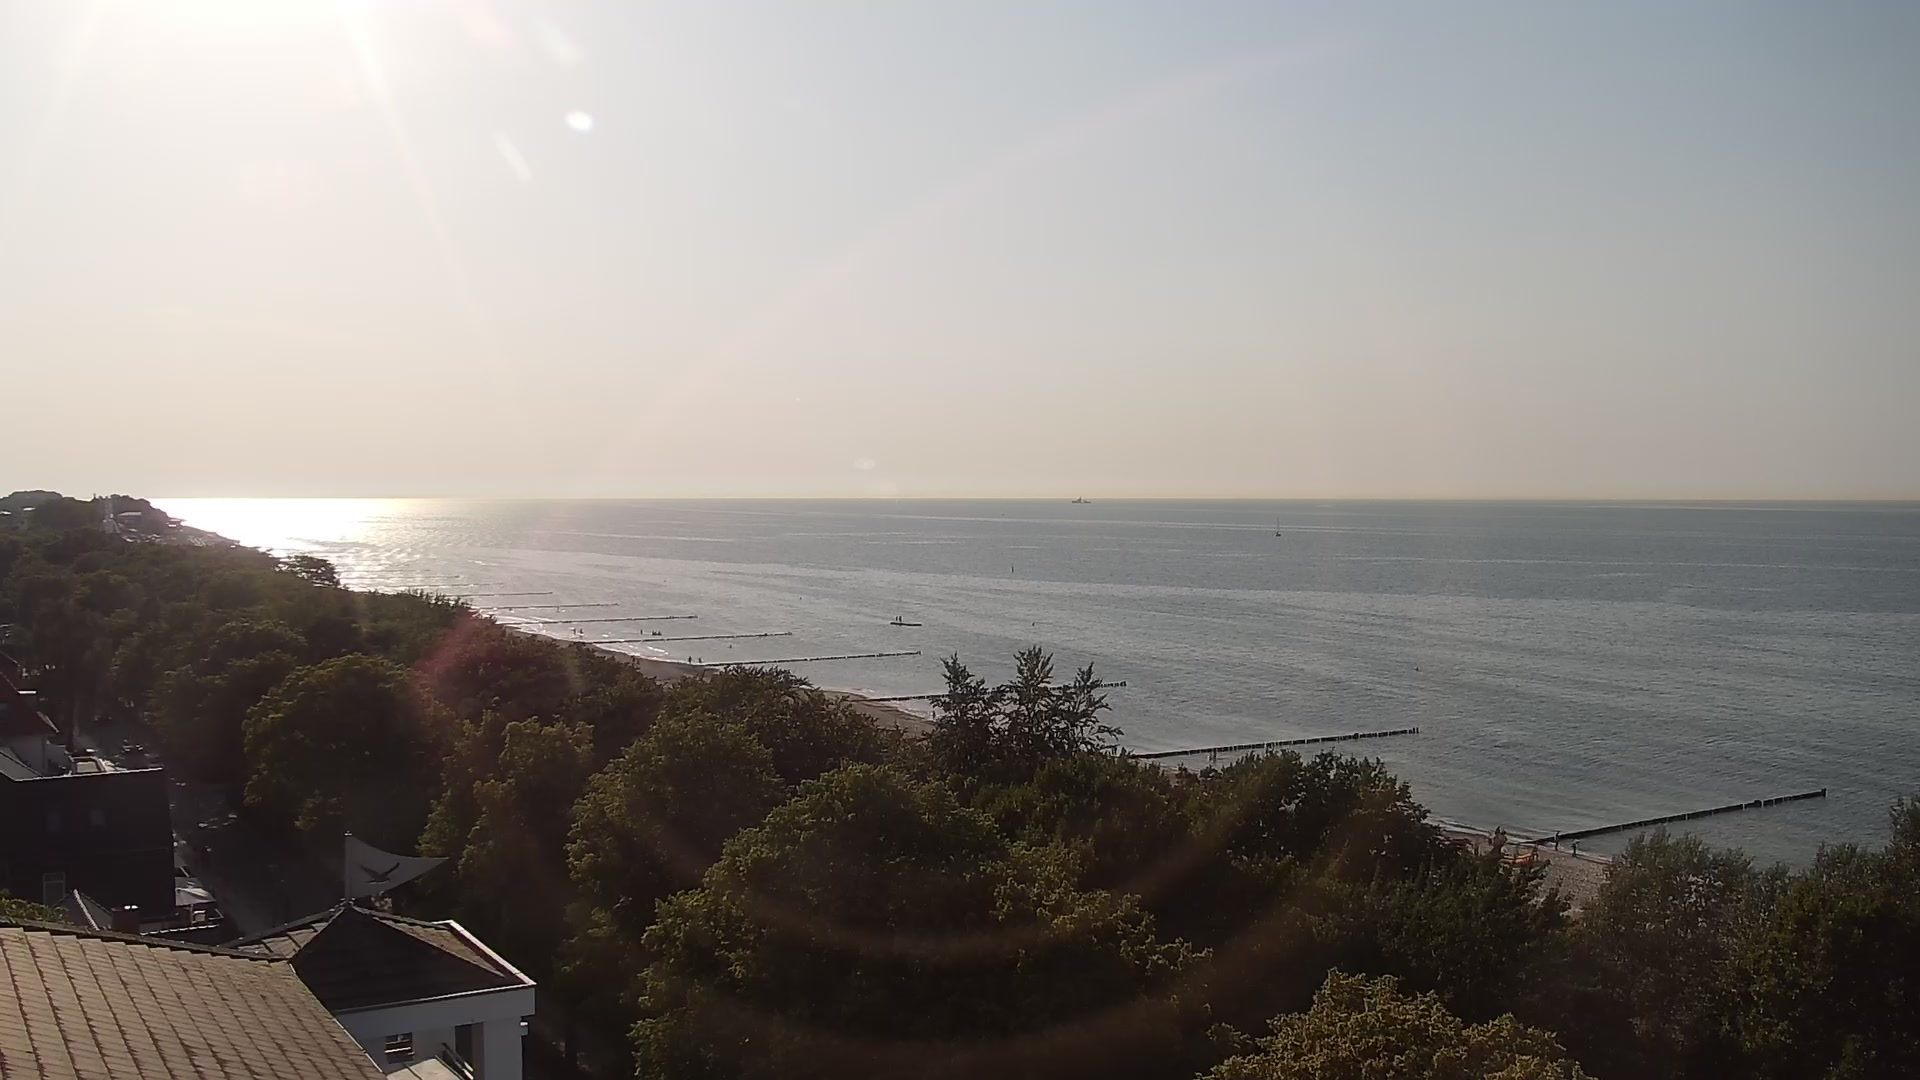human: (1554, 830, 1561, 850), (1572, 840, 1580, 858), (578, 627, 584, 637), (572, 626, 577, 635), (687, 655, 692, 663), (698, 657, 703, 664), (932, 710, 936, 719), (898, 614, 902, 622), (894, 614, 898, 621)
sea: (1271, 514, 1283, 537), (889, 620, 922, 626), (1070, 496, 1093, 504)
